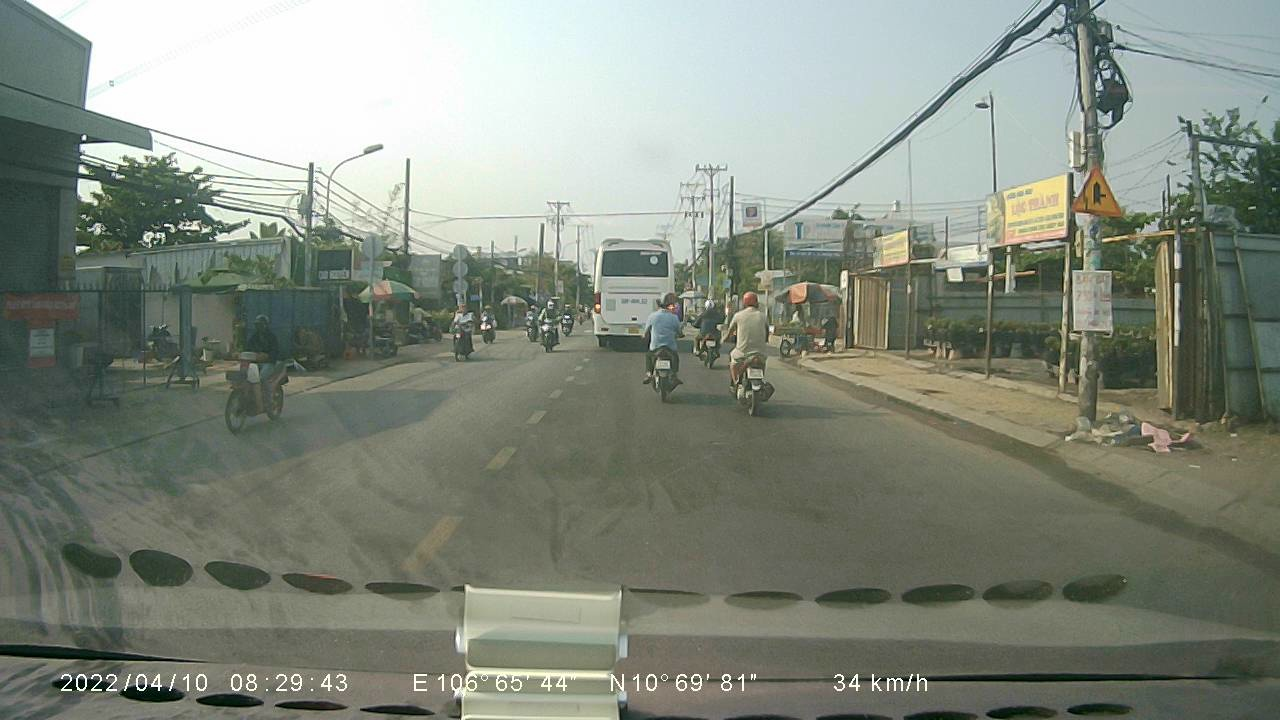Giao nhau voi duong khong uu tien: (1062, 165, 1126, 216)
